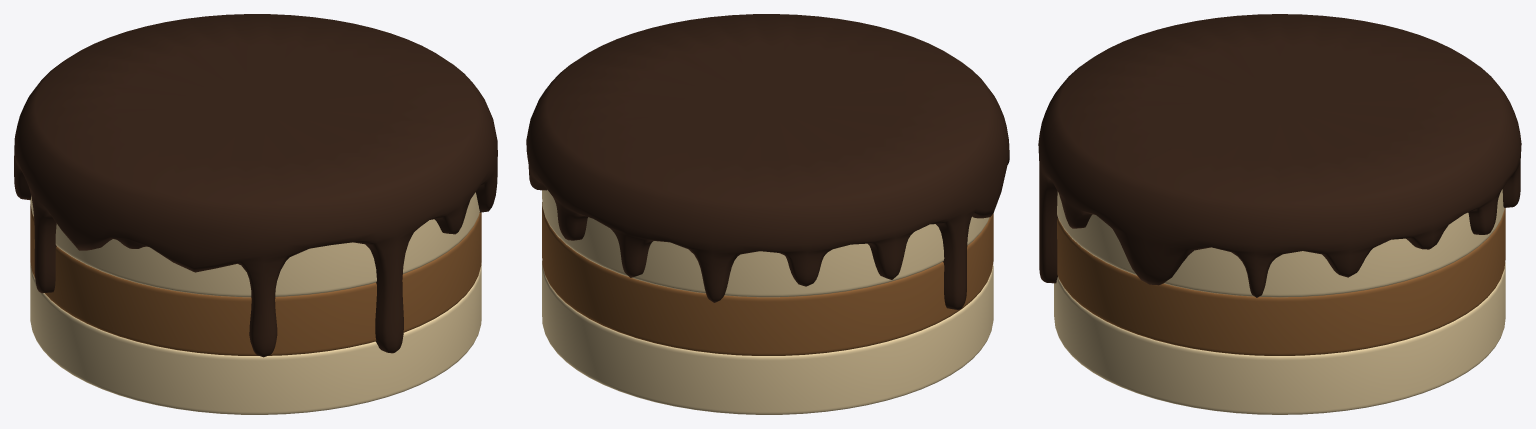
3 views of the same model, side by side, from view 1: azimuth 30°, elevation 25°; view 2: azimuth 150°, elevation 25°; view 3: azimuth 270°, elevation 25° (orthographic).
Parts seen in each view (by area): view 1: Cream Chocolate; view 2: Cream Chocolate; view 3: Cream Chocolate.
Part boxes in pixels (x1,y1,x2,y2): Cream Chocolate: [14, 14, 497, 414]; Cream Chocolate: [526, 14, 1009, 414]; Cream Chocolate: [1038, 14, 1521, 414].
Bounding box in the file's own units: 20.01 × 9.88 × 19.97.
